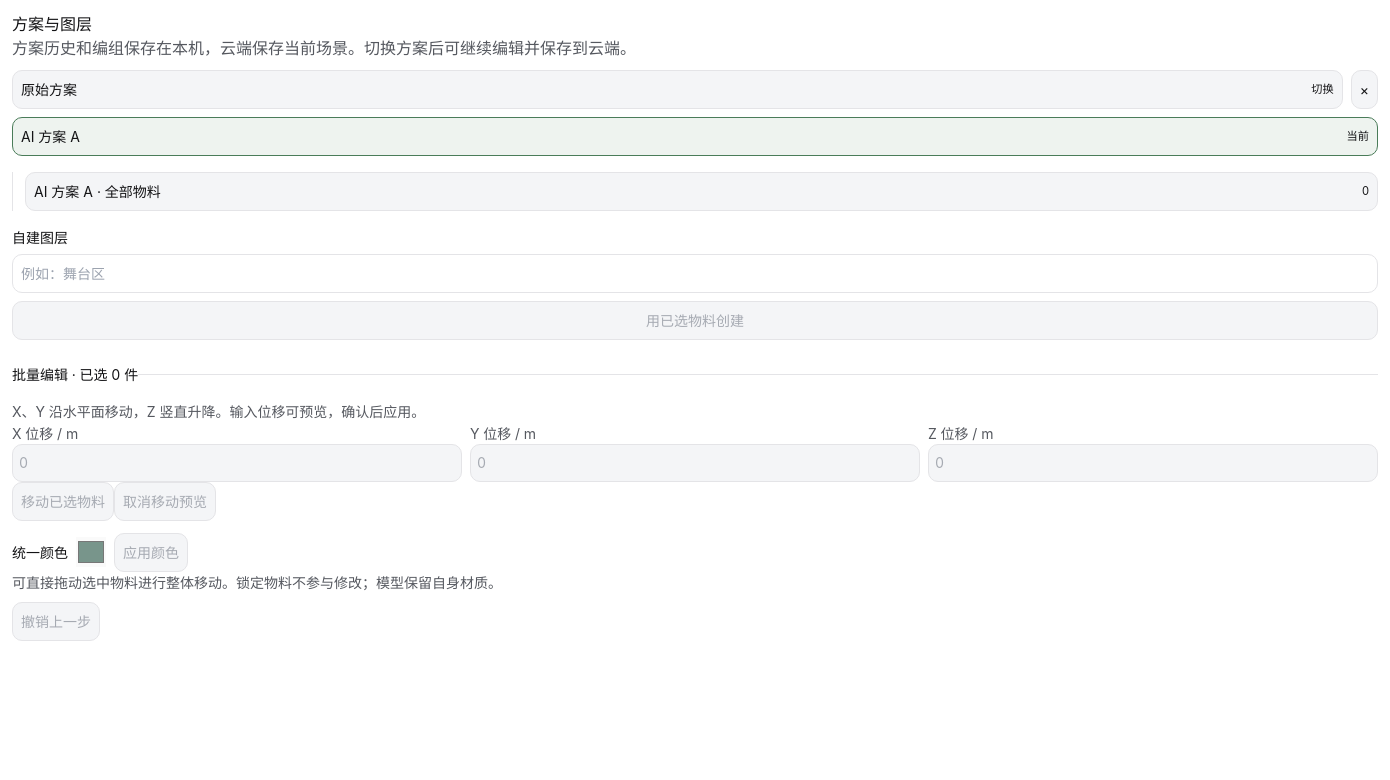
Test case: uses only an already loaded model when offline, cache=idle
Step 1. Click the button named "原始方案切换" → click(49, 89), box [12,70,1343,109]
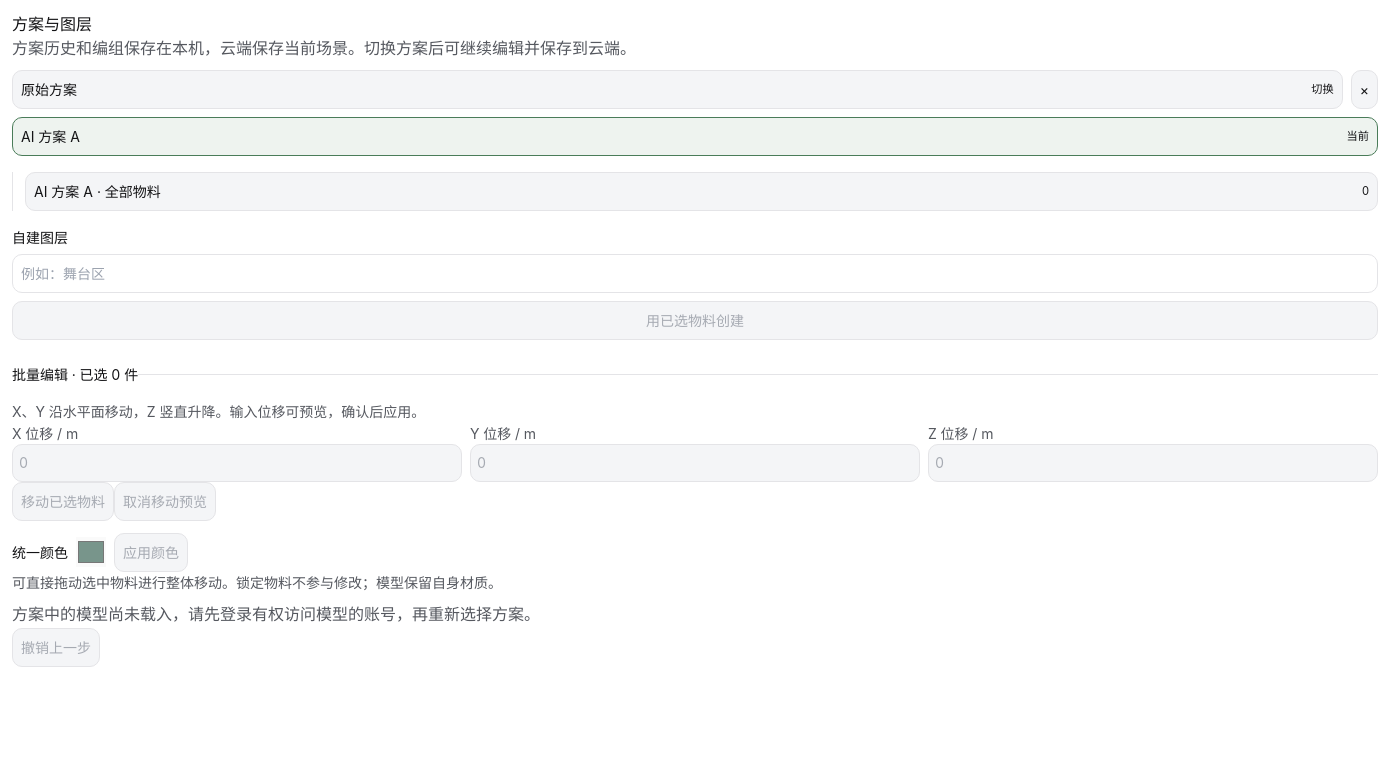
Expected: the text "方案中的模型尚未载入，请先登录有权访问模型的账号，再重新选择方案。" is shown, [12,604,540,624]
